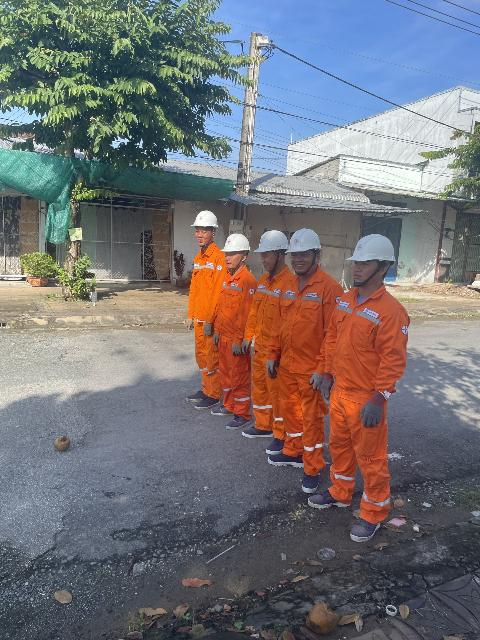helmet: (350, 231, 402, 270), (284, 221, 321, 258), (192, 206, 225, 237), (256, 230, 288, 256), (218, 236, 251, 258)
shoes: (348, 510, 388, 544), (301, 488, 352, 510), (216, 412, 255, 432), (269, 455, 312, 472), (208, 398, 238, 417), (191, 392, 218, 412), (234, 428, 279, 440), (298, 471, 320, 494), (183, 387, 206, 407), (266, 436, 288, 456)
